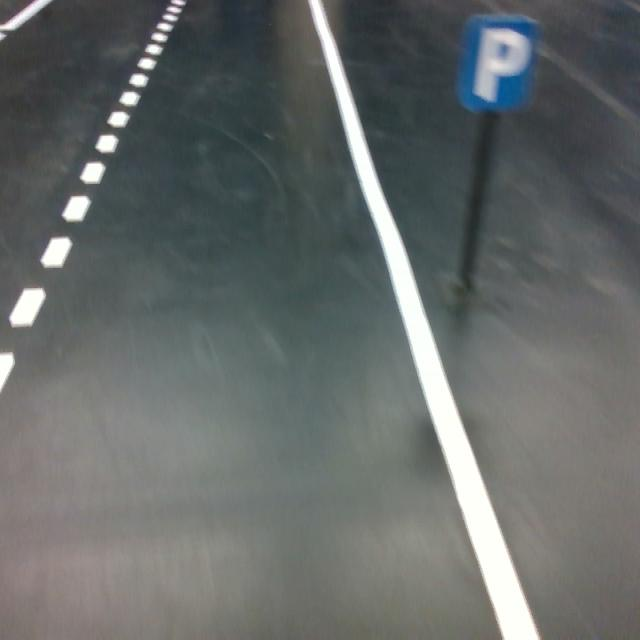parking-sign: (453, 12, 542, 114)
